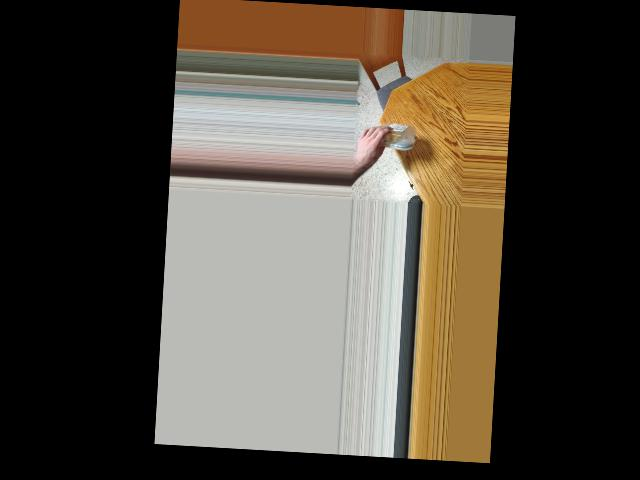cheese: (375, 113, 416, 167)
